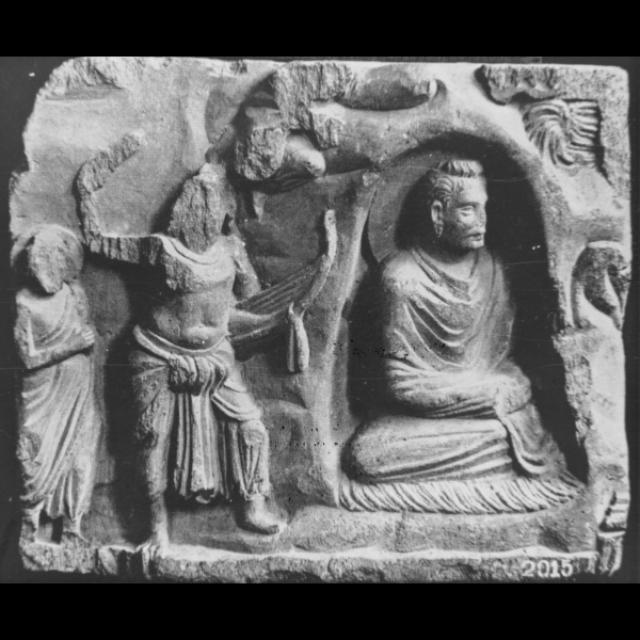buddha-sitting: (341, 152, 581, 512)
